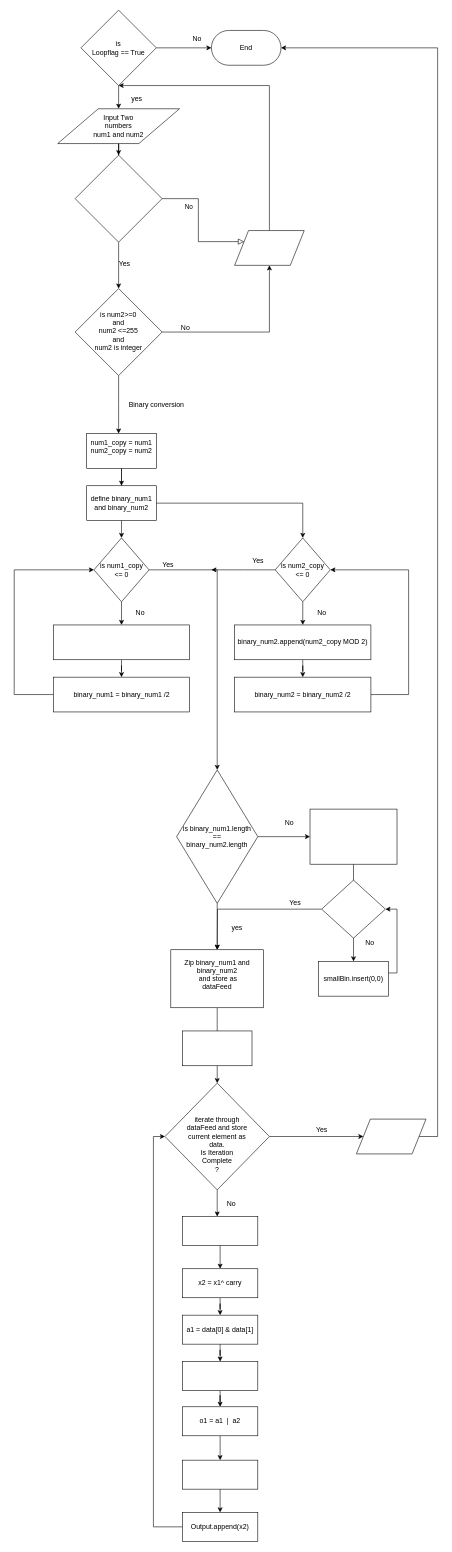
This 452x1552 diagram has some shape labels left out. The shapes that lost their labels are listed below. From the top down, each one's centre as x and y in pixels, then its label:
(x=118, y=198): is num1>=0 and num1 <=255 and num1 is integer
(x=269, y=247): Print "Invalid Input"
(x=121, y=642): binary_num1.append(num1_copy MOD 2)
(x=353, y=836): choose one with small length with alias smallBin and large one as largeBin
(x=353, y=909): is smallBin== largeBin
(x=217, y=1048): define output and carry
(x=391, y=1136): print output as string
(x=220, y=1231): x1= data[0] ^ data[1]
(x=220, y=1376): a2 = x1 & carry
(x=220, y=1474): carry = o1
